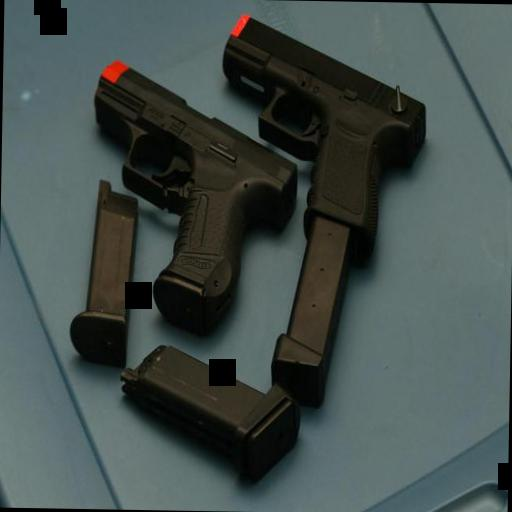Handgun: (86, 55, 300, 339), (216, 9, 430, 273)
